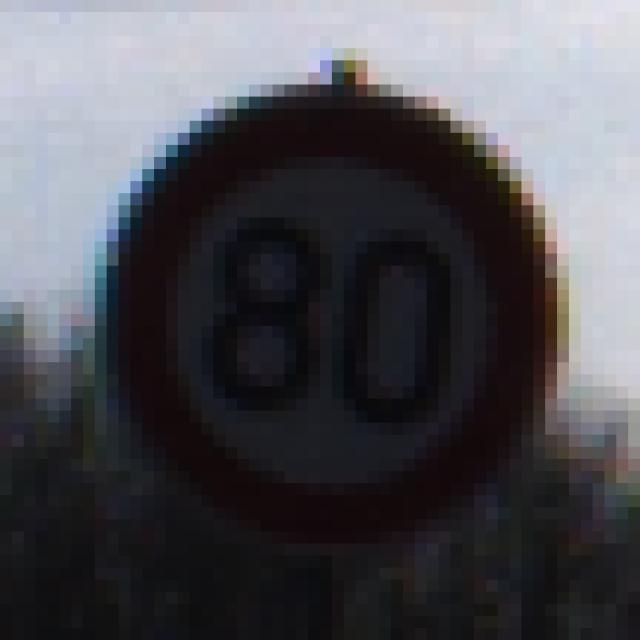Ograniczenie predkosci do 80: (100, 94, 555, 532)
